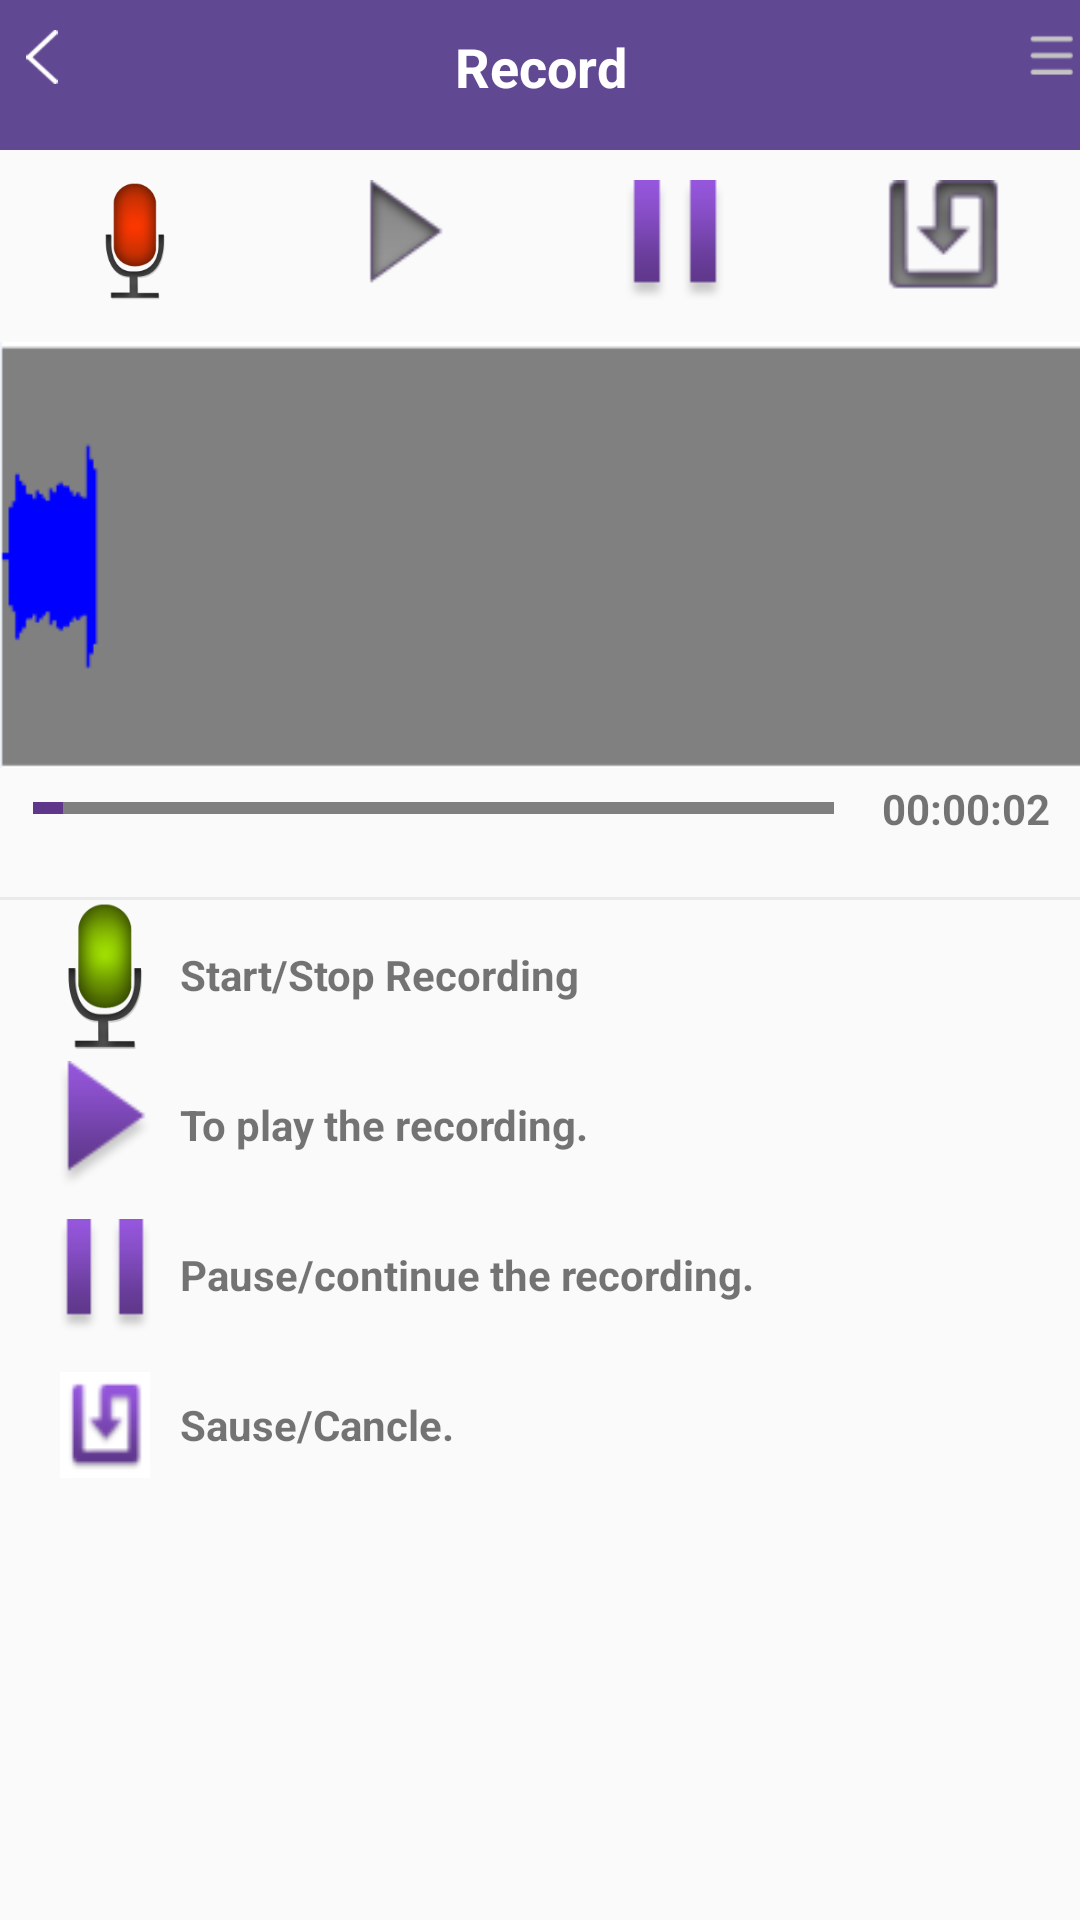

Icon bounding boxes for this 1080×1920 phone screenshot, format (x1, y1, x2, y2):
back arrow: (26, 30, 58, 84)
three bars: (1030, 36, 1073, 75)
